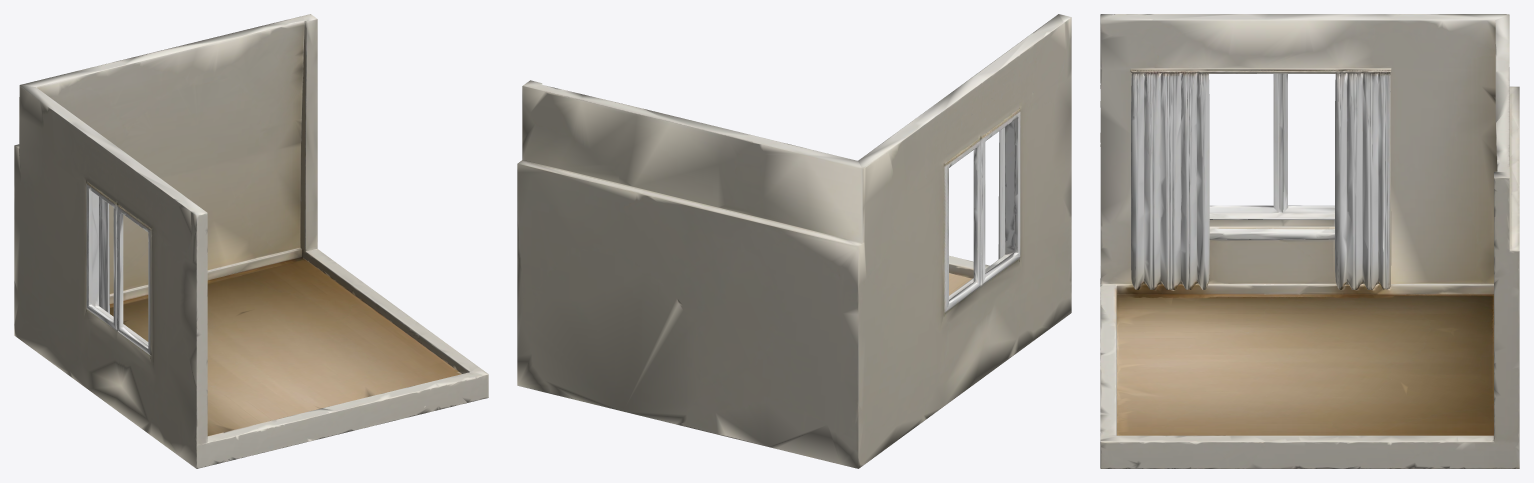
Rendered from wall.glb.
The picture shows the model from 3 angles, left to right: view 1: azimuth 30°, elevation 25°; view 2: azimuth 150°, elevation 25°; view 3: azimuth 270°, elevation 25°; orthographic projection. The views are drawn at different scales.
Visible parts, largest first — view 1: node_0; view 2: node_0; view 3: node_0.
Part boxes in pixels (bbox=[...]): node_0: bbox=[14, 14, 488, 468]; node_0: bbox=[517, 14, 1071, 468]; node_0: bbox=[1100, 14, 1519, 468].
Bounding box in the file's own units: 0.7127 × 0.5881 × 0.7671.
1 material, 1 textured.
